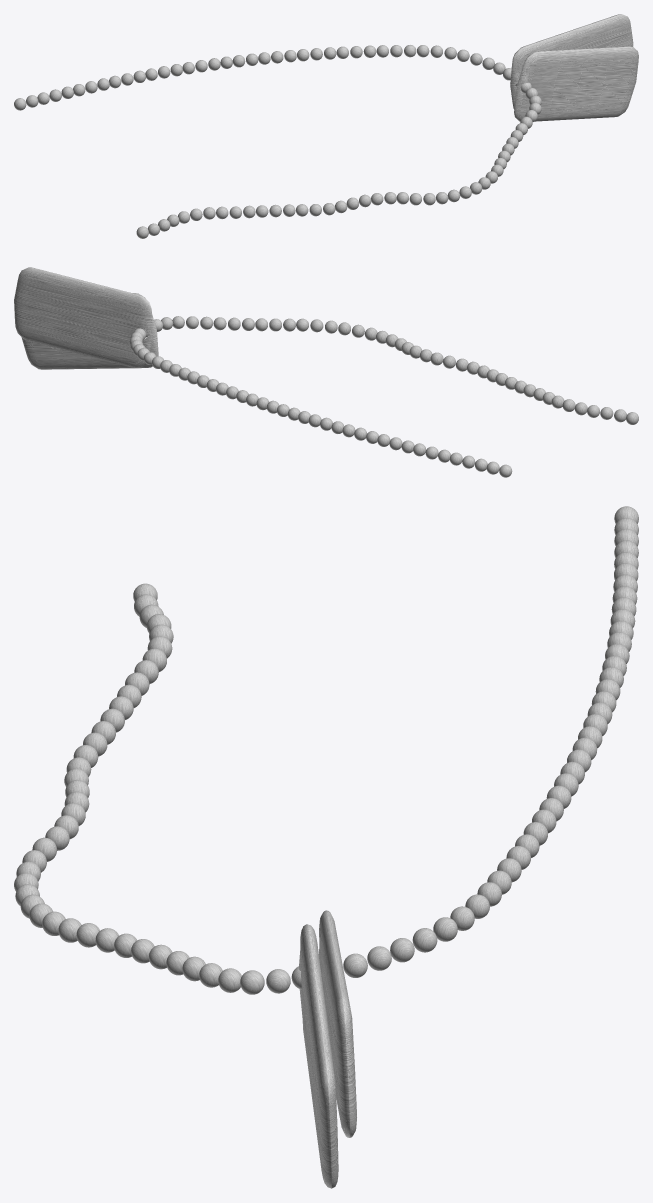
The model's file is dogtag.FBX.
The picture shows the model from 3 angles, top to bottom: view 1: azimuth 30°, elevation 25°; view 2: azimuth 150°, elevation 25°; view 3: azimuth 270°, elevation 25°; orthographic projection. The views are drawn at different scales.
Parts seen in each view (by area): view 1: ChamferBox002, ChamferBox001; view 2: ChamferBox001, ChamferBox002; view 3: ChamferBox002, ChamferBox001.
Part boxes in pixels (box(x1,y1,x2,y2)): ChamferBox002: box(514, 46, 638, 121); ChamferBox001: box(510, 14, 633, 109); ChamferBox001: box(14, 267, 152, 368); ChamferBox002: box(21, 293, 158, 369); ChamferBox002: box(299, 924, 338, 1188); ChamferBox001: box(319, 910, 356, 1137).
Bounding box in the file's own units: 150 × 25.69 × 75.08.
1 material, 1 textured.
